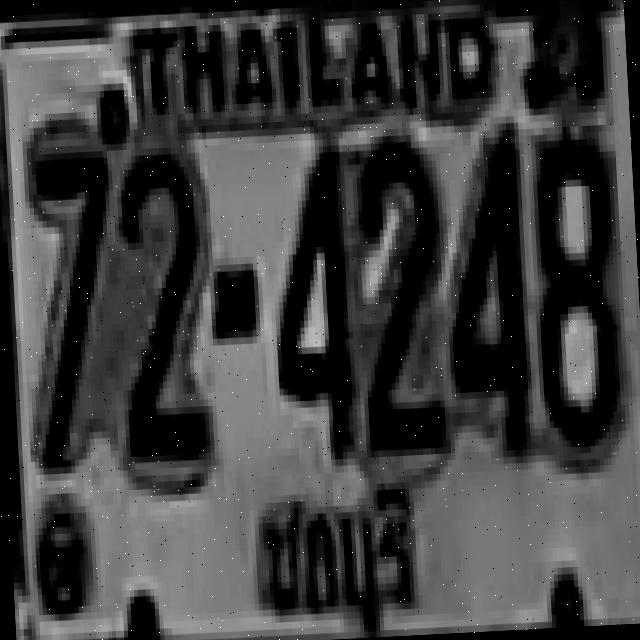2: (108, 160, 212, 478), (109, 146, 209, 464), (350, 130, 447, 454)
4: (438, 126, 531, 456), (262, 136, 354, 446)
7: (17, 141, 122, 465)
8: (526, 128, 624, 452)
Chonburi: (243, 471, 456, 640)
